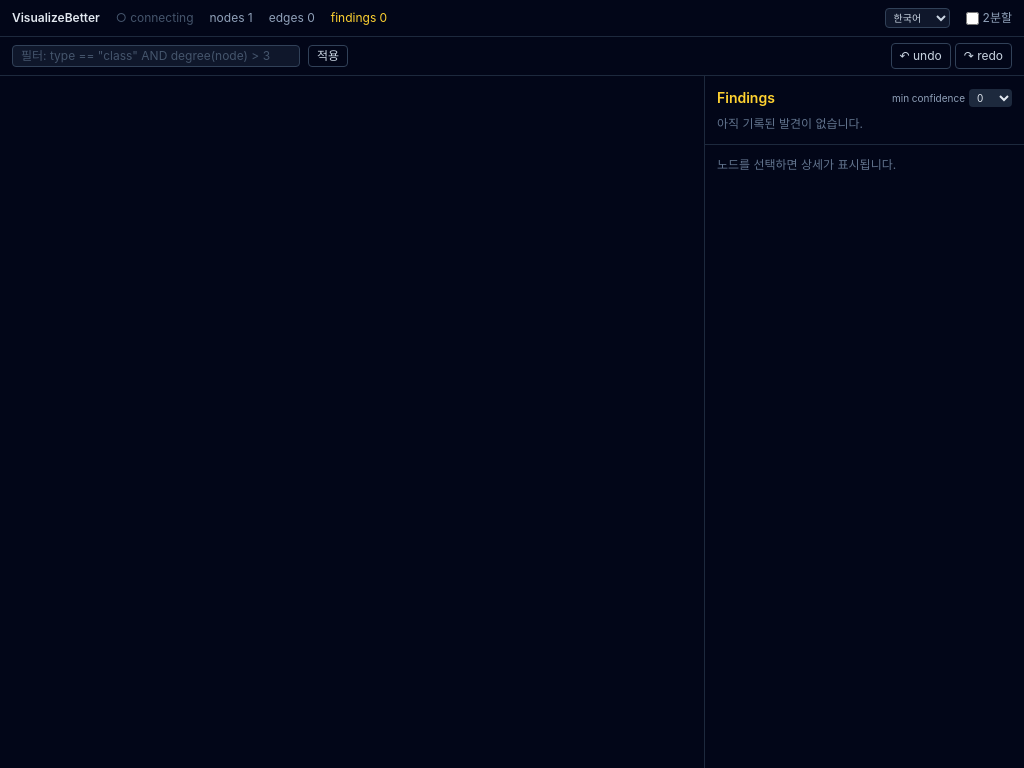
Test case: [7-C] 2분할 모드 ([9-C] viewMode) › split shows overview and detail together once a node is focused
Click the checkbox named "split view": [972, 18] box [966,12,979,24]
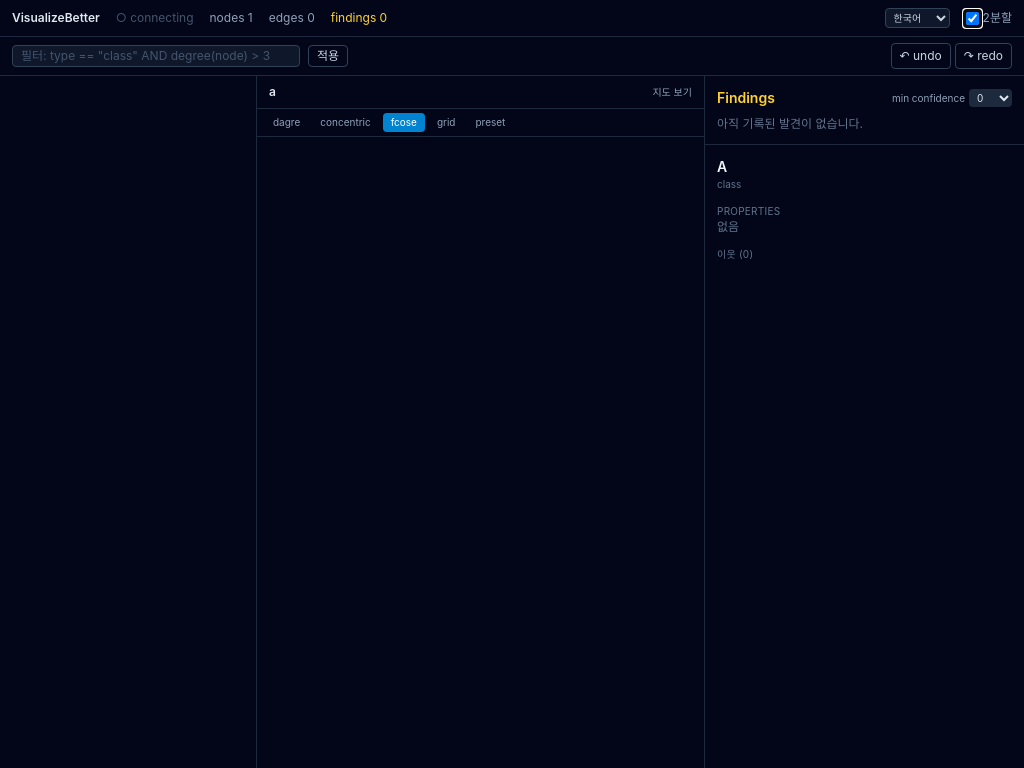
Expected: the element with test id "overview-canvas" is shown, [0,76,256,767]
Expected: the element with test id "detail-panel" is shown, [256,76,704,767]
